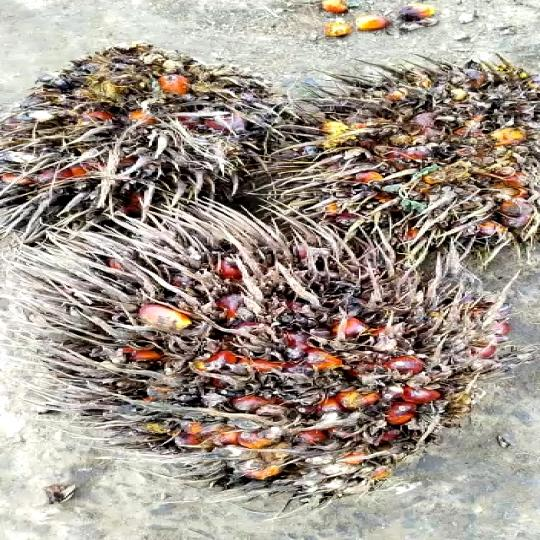terlalu masak: (13, 203, 474, 493), (242, 60, 540, 237), (4, 51, 278, 231)
